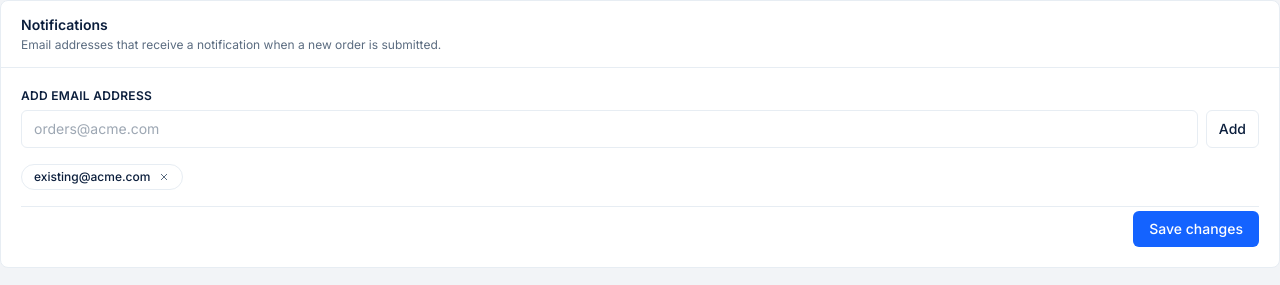
Scenario: NotificationsForm › removes an email when X is clicked
Click the button named "Remove existing@acme.com". click: (164, 177)
box: [158, 171, 170, 183]
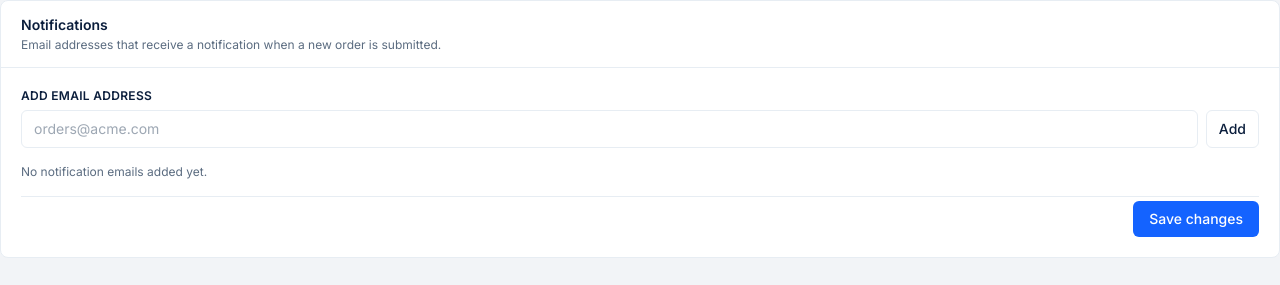
Check: the text "existing@acme.com" is gone
